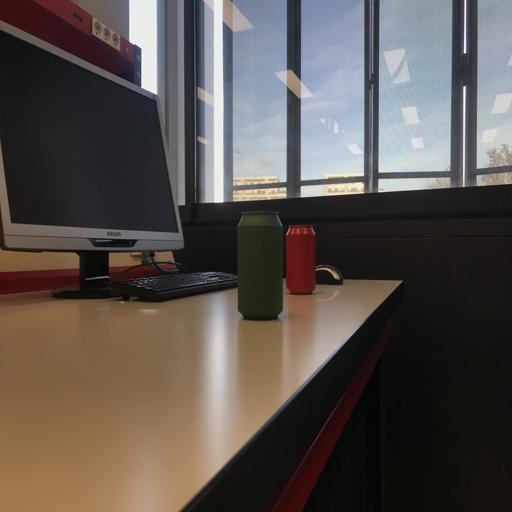Green_Can: (235, 209, 284, 321)
Red_Can: (285, 222, 317, 294)
